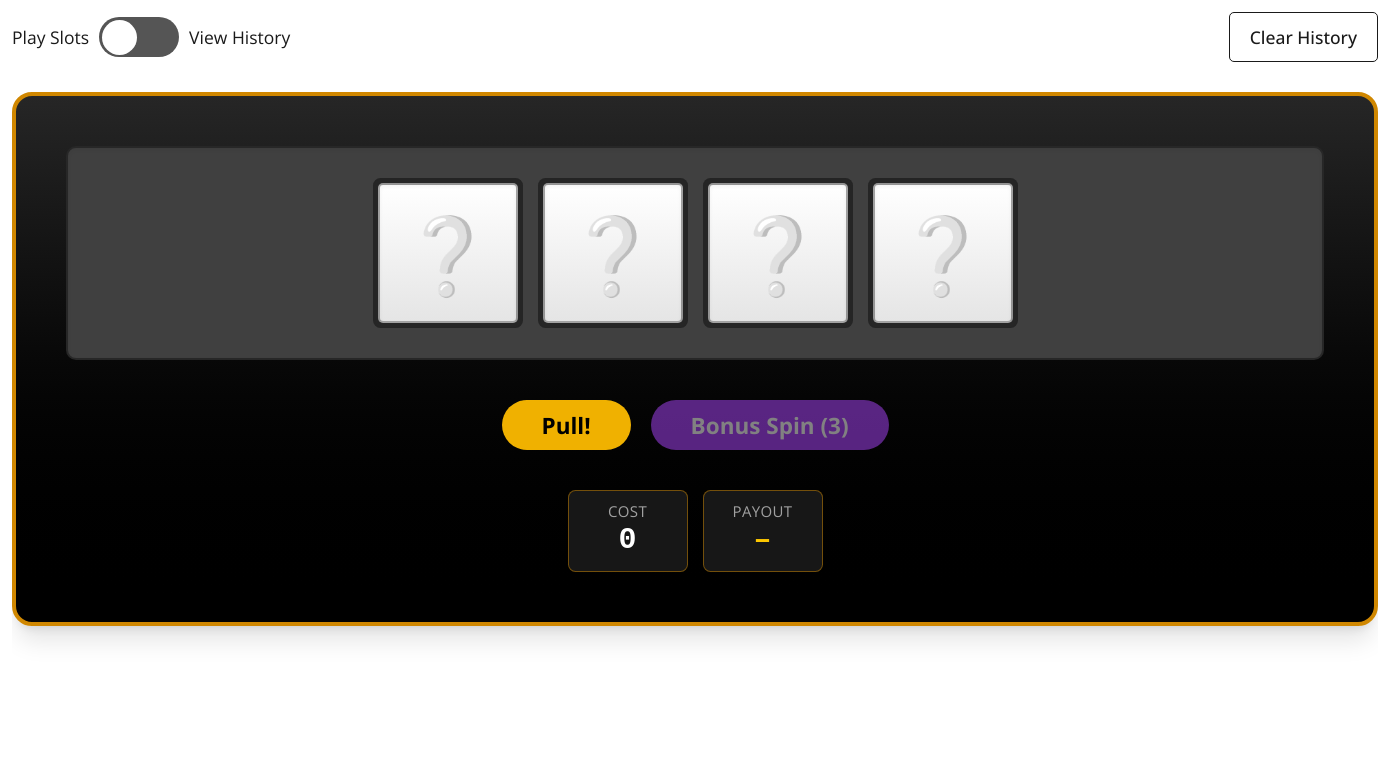
SlotMachine (maxBonusSpins > 0) › leaves the bonus spin button disabled until a reel is selected
Step 1. Click the button "Pull!" → (566, 425), box [502, 400, 631, 450]
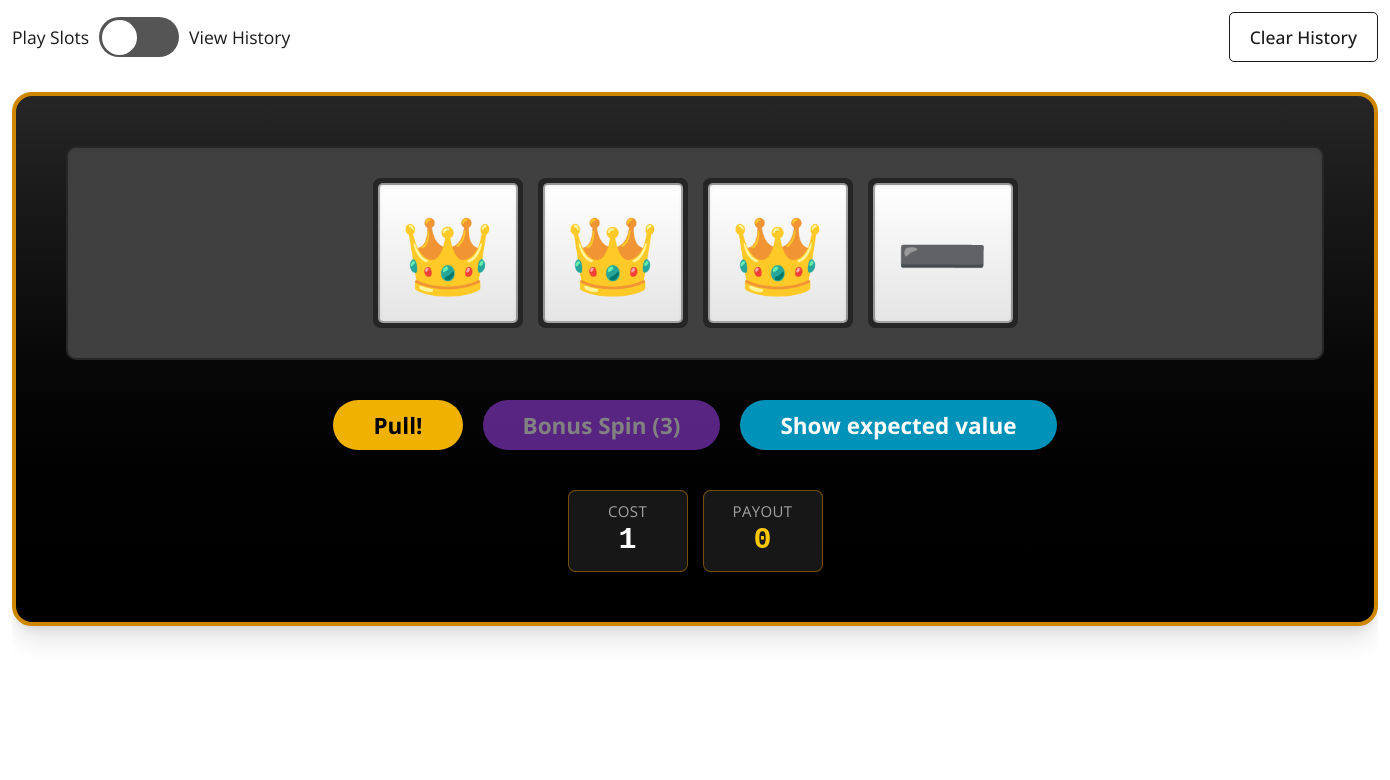
expect the button "Bonus Spin (3)" is disabled: met, box [482, 400, 720, 450]
Step 2. Click the button "➖" → (942, 253), box [868, 178, 1018, 328]
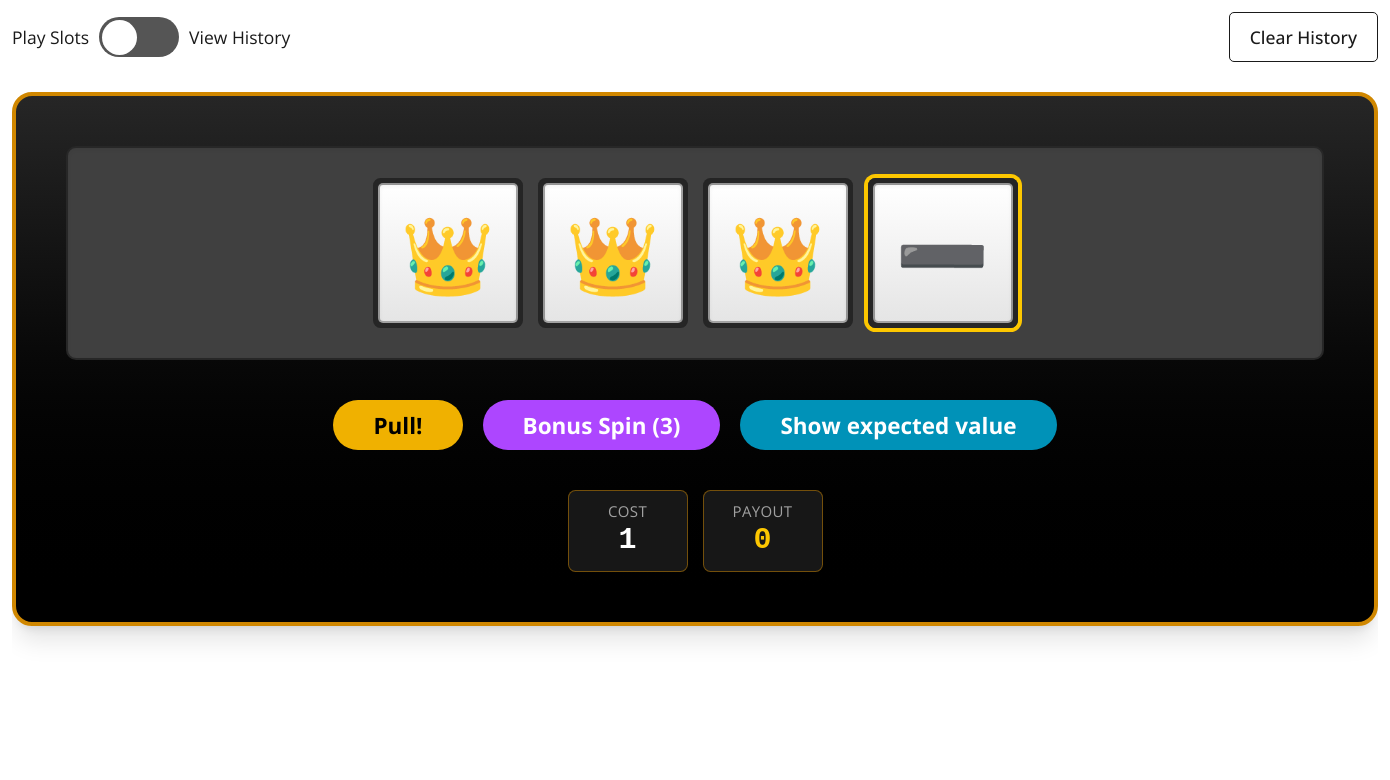
expect the button "Bonus Spin (3)" is enabled: met, box [482, 400, 720, 450]
